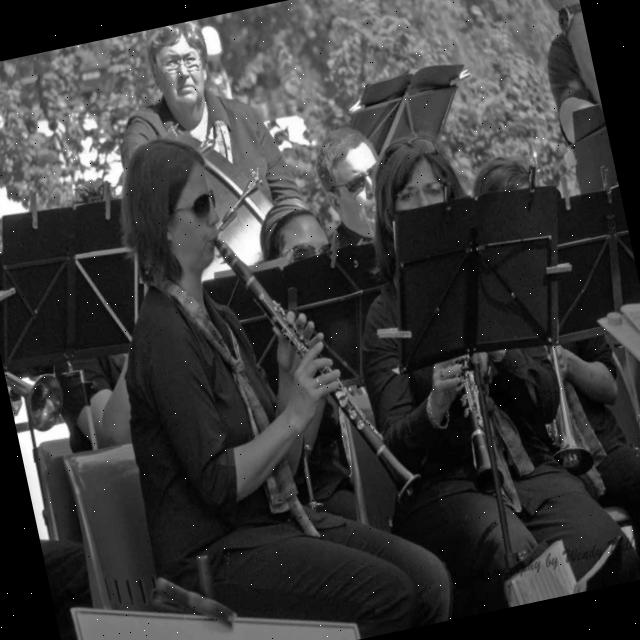clarinet: (212, 205, 429, 535), (448, 348, 507, 502)
drums: (138, 109, 304, 300)
